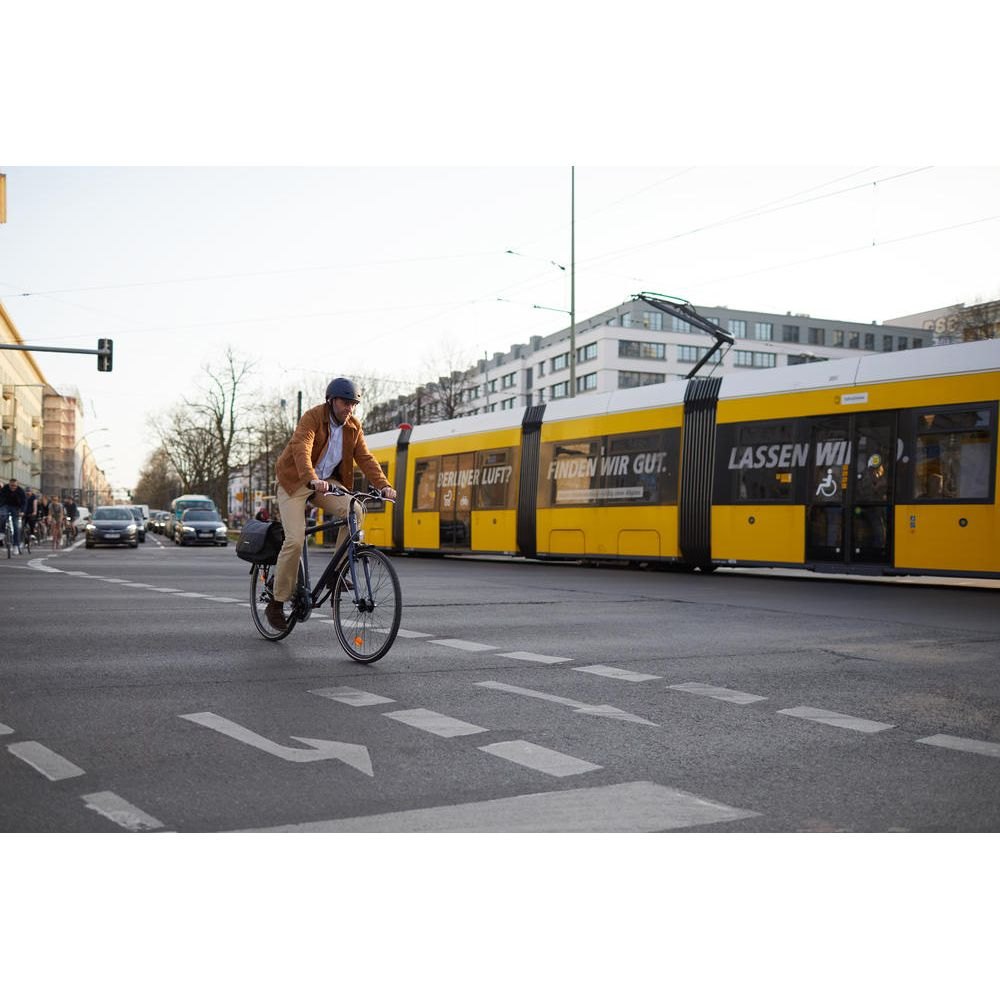UrbanBike: (238, 484, 420, 654)
